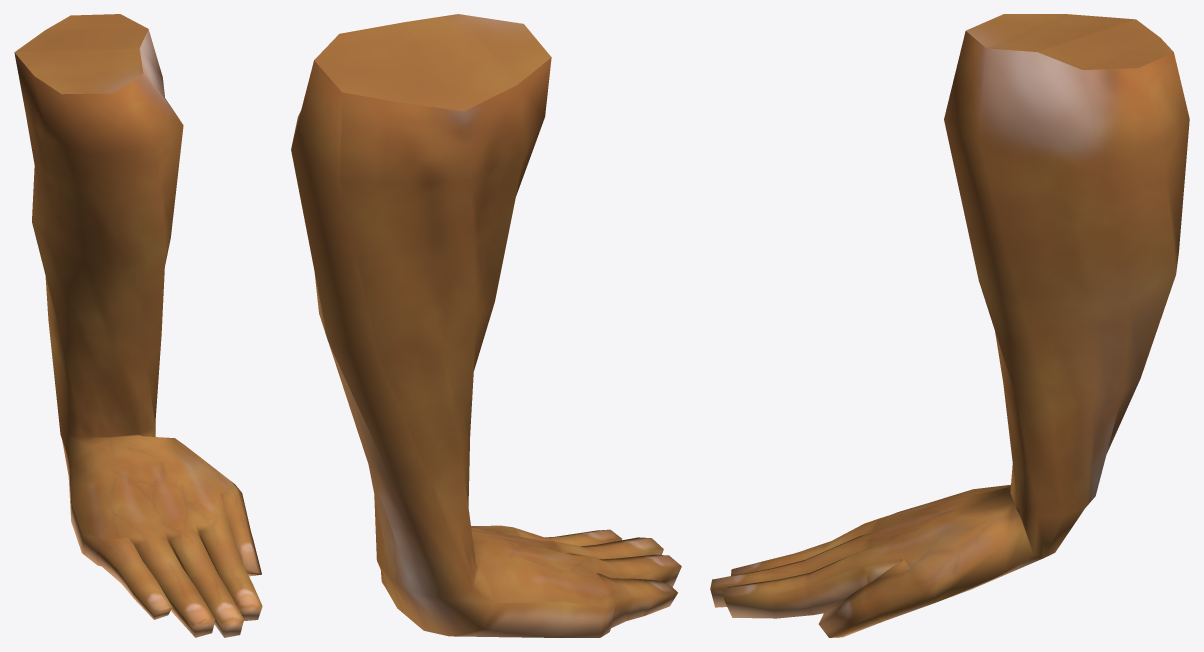
The model's file is arm_and_hand_stop.obj.
3 views of the same model, side by side, from view 1: azimuth 30°, elevation 25°; view 2: azimuth 150°, elevation 25°; view 3: azimuth 270°, elevation 25° (orthographic). The views are drawn at different scales.
Parts seen in each view (by area): view 1: Arm_Cube; view 2: Arm_Cube; view 3: Arm_Cube.
Part boxes in pixels (box(x1,y1,x2,y2)): Arm_Cube: box(14, 14, 262, 637); Arm_Cube: box(291, 14, 681, 637); Arm_Cube: box(710, 14, 1189, 637).
Bounding box in the file's own units: 0.1132 × 0.3329 × 0.2506.
1 material, 1 textured.
